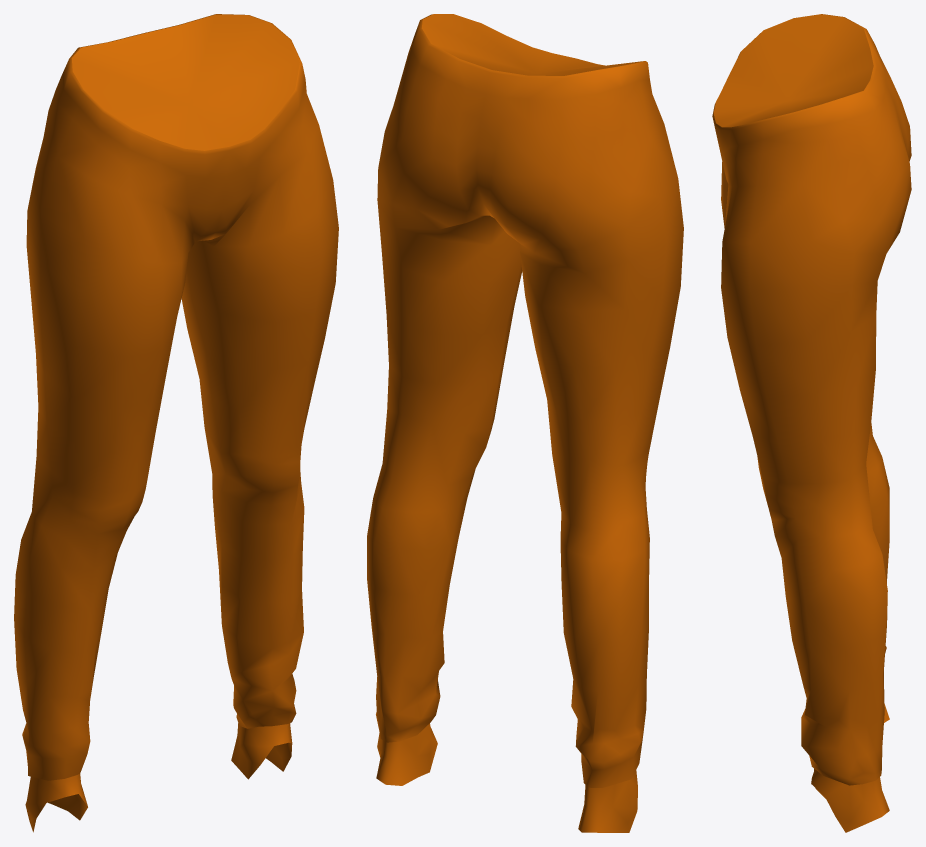
File: calçafem9glb.glb
3 renders of one model, left to right at view 1: azimuth 30°, elevation 25°; view 2: azimuth 150°, elevation 25°; view 3: azimuth 270°, elevation 25°, orthographic. The views are drawn at different scales.
Visible parts, largest first — view 1: hash_3FBBEF0A.model; view 2: hash_3FBBEF0A.model; view 3: hash_3FBBEF0A.model.
Part boxes in pixels (left/top/right/bottom): hash_3FBBEF0A.model: left=14, top=14, right=338, bottom=832; hash_3FBBEF0A.model: left=367, top=14, right=683, bottom=832; hash_3FBBEF0A.model: left=712, top=14, right=911, bottom=832.
Size of the model in its own units: 0.4104 by 1.07 by 0.2691.
